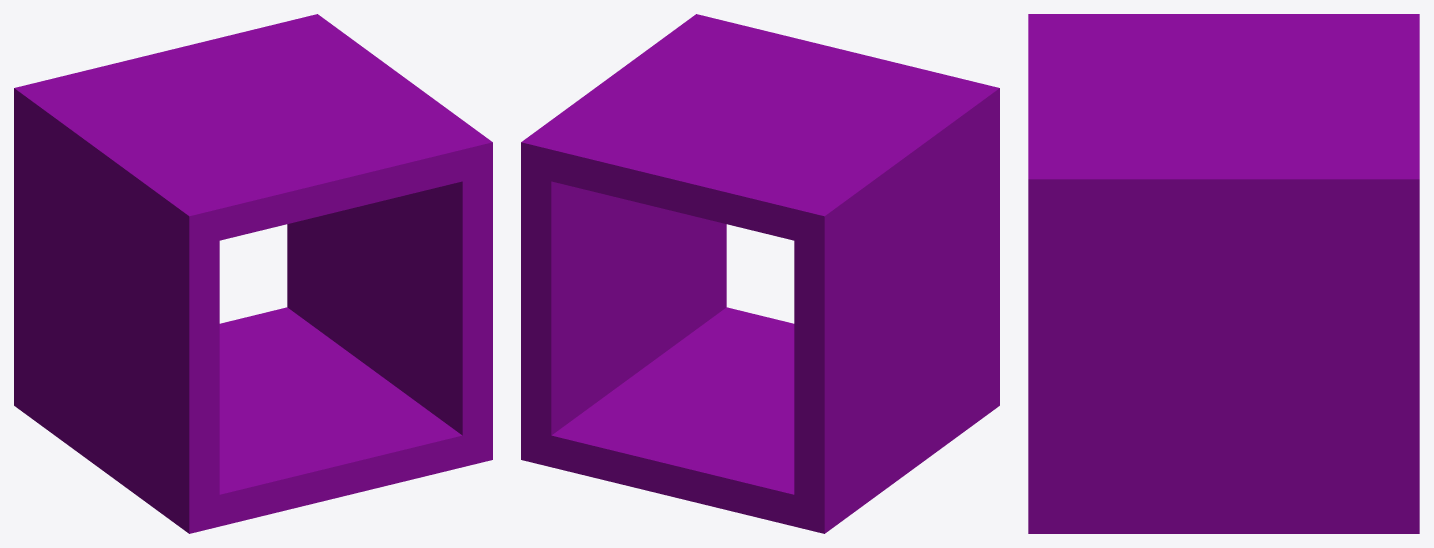
The model's file is flythroughs.001-I.glb.
3 renders of one model, left to right at view 1: azimuth 30°, elevation 25°; view 2: azimuth 150°, elevation 25°; view 3: azimuth 270°, elevation 25°, orthographic. The views are drawn at different scales.
Parts seen in each view (by area): view 1: Cube-I; view 2: Cube-I; view 3: Cube-I.
Part boxes in pixels (bbox=[...]): Cube-I: bbox=[14, 14, 492, 533]; Cube-I: bbox=[521, 14, 999, 533]; Cube-I: bbox=[1028, 14, 1419, 533].
Size of the model in its own units: 2 by 2 by 2.
1 material, 1 textured.
